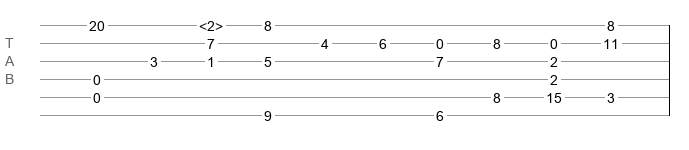0: (93, 90, 101, 100), (93, 72, 101, 82), (436, 36, 444, 46), (550, 36, 558, 46)
1: (207, 54, 215, 64)
11: (603, 36, 619, 46)
15: (546, 90, 562, 100)
2: (550, 54, 558, 64), (550, 72, 558, 82)
20: (89, 18, 105, 28)
3: (150, 54, 158, 64), (607, 90, 615, 100)
4: (321, 36, 329, 46)
5: (264, 54, 272, 64)
6: (379, 36, 387, 46), (436, 108, 444, 118)
7: (207, 36, 215, 46), (436, 54, 444, 64)
8: (264, 18, 272, 28), (493, 90, 501, 100), (493, 36, 501, 46), (607, 18, 615, 28)
9: (264, 108, 272, 118)
harmonic: (199, 18, 223, 28)
